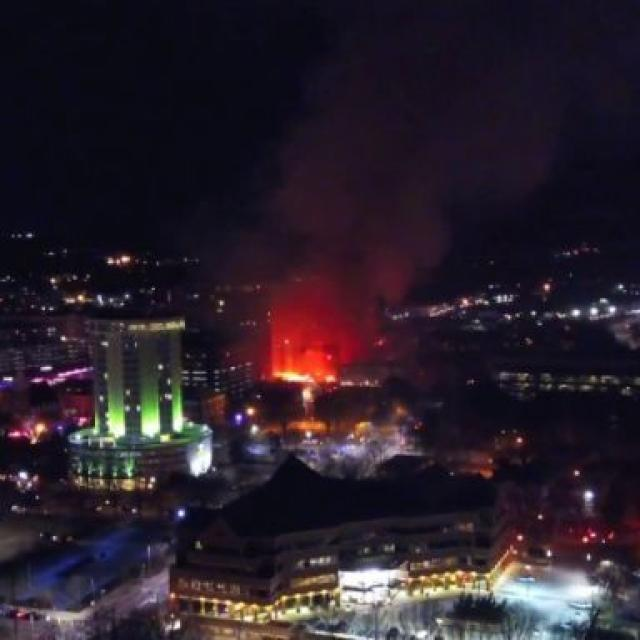Fire: (266, 278, 366, 398)
Smoke: (227, 66, 554, 259)
